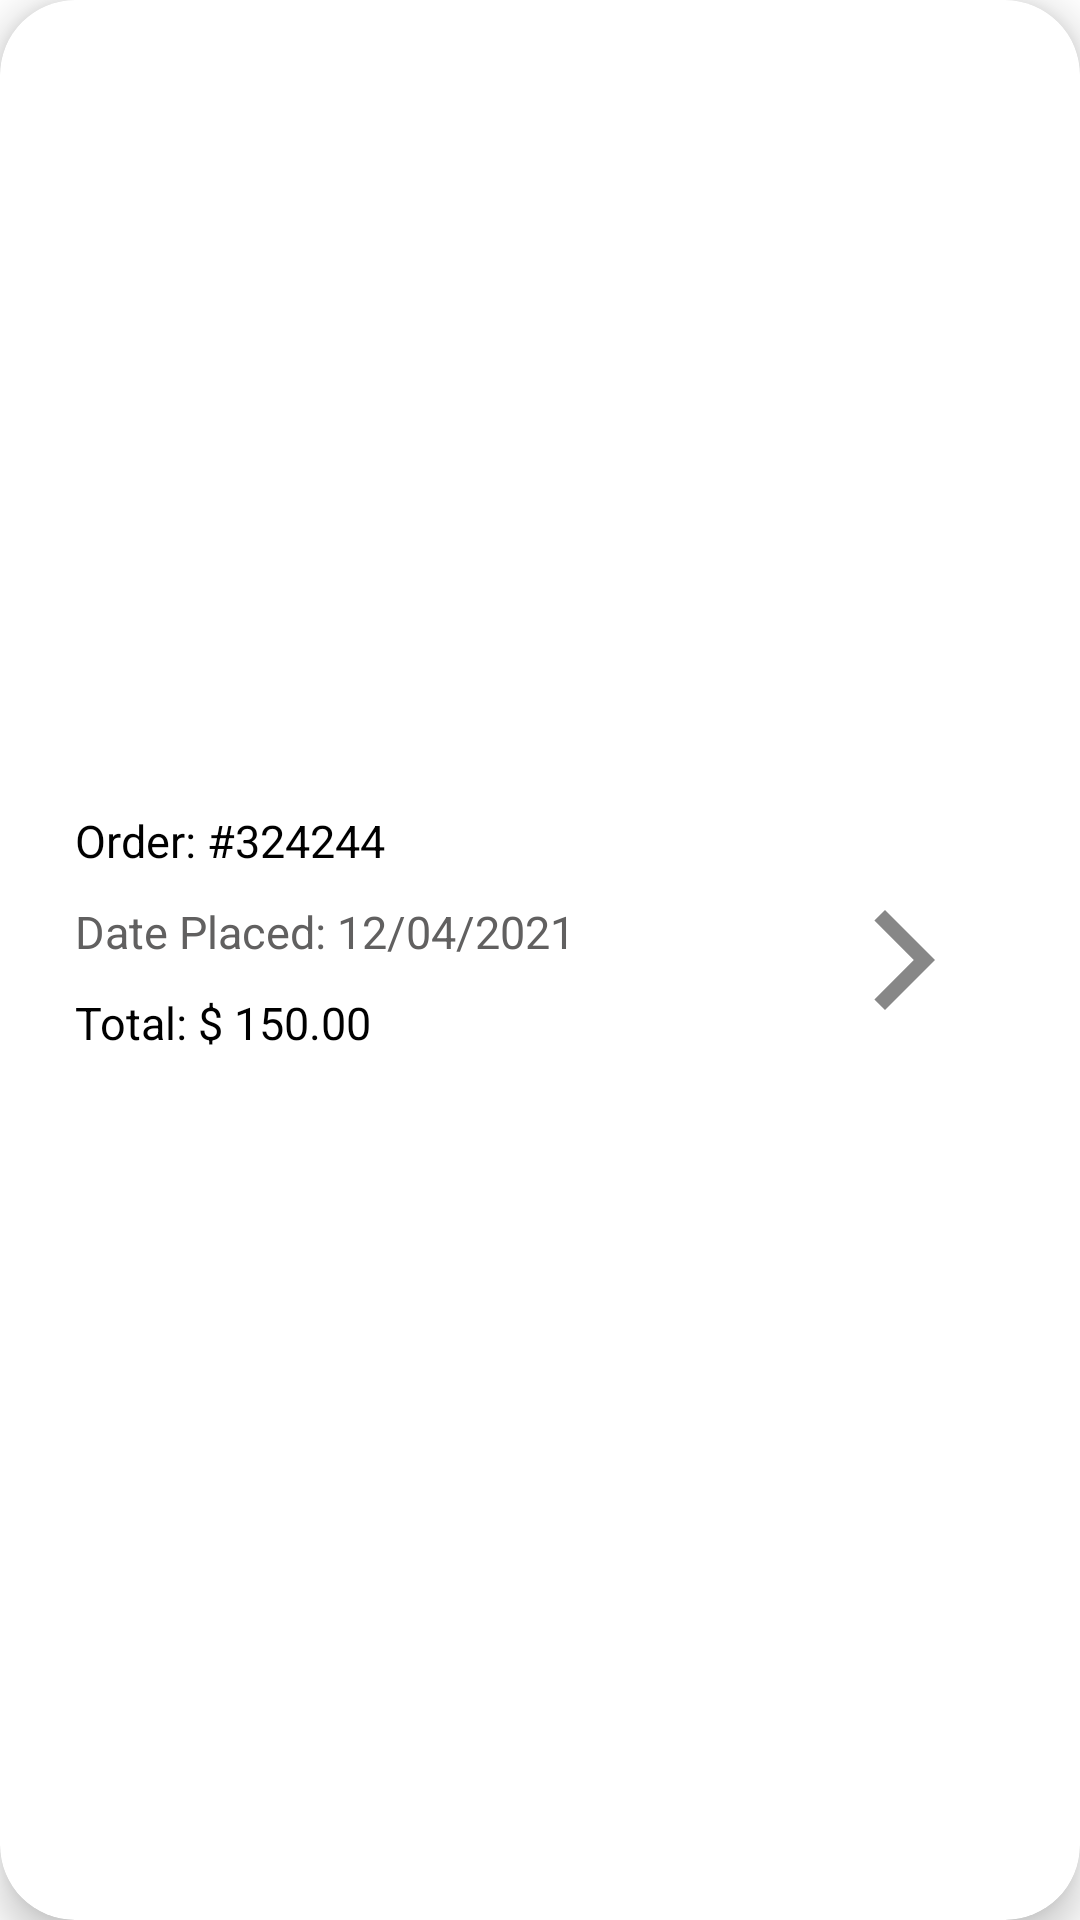

Screen size 1080×1920. Icon name, then its box in pixels as (x1, y1, x2, y2):
forward: (874, 910, 935, 1010)
